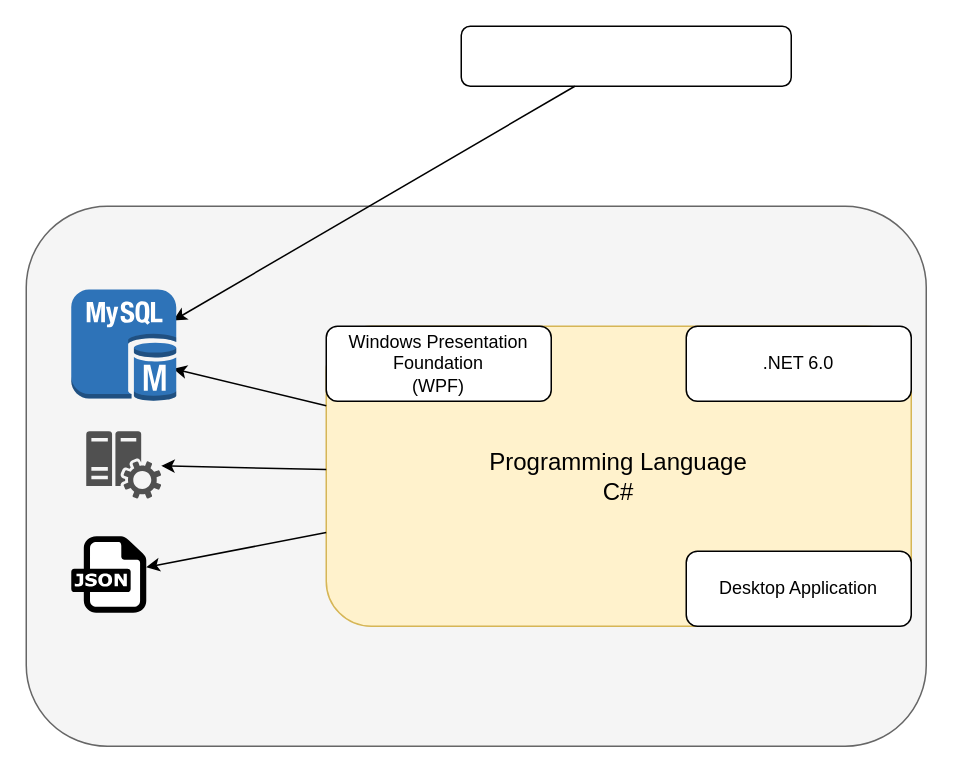
Some shapes in this 953 by 773 pixel diagram are drawn without their labels. The shapes that lost their labels are listed below. From the top down, each one's box as (x1, y1, x2, y2) in pixels, then its label:
(460, 25, 791, 86): Car Tuning Master
(86, 430, 160, 498): config.ini
(70, 535, 146, 613): colors.json
